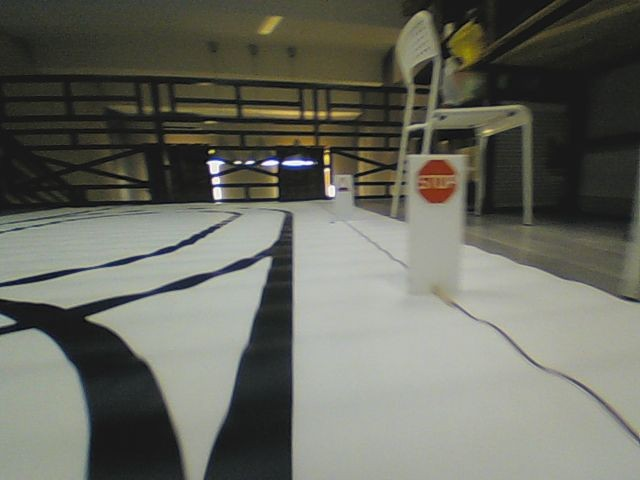Stop: (415, 157, 458, 204)
